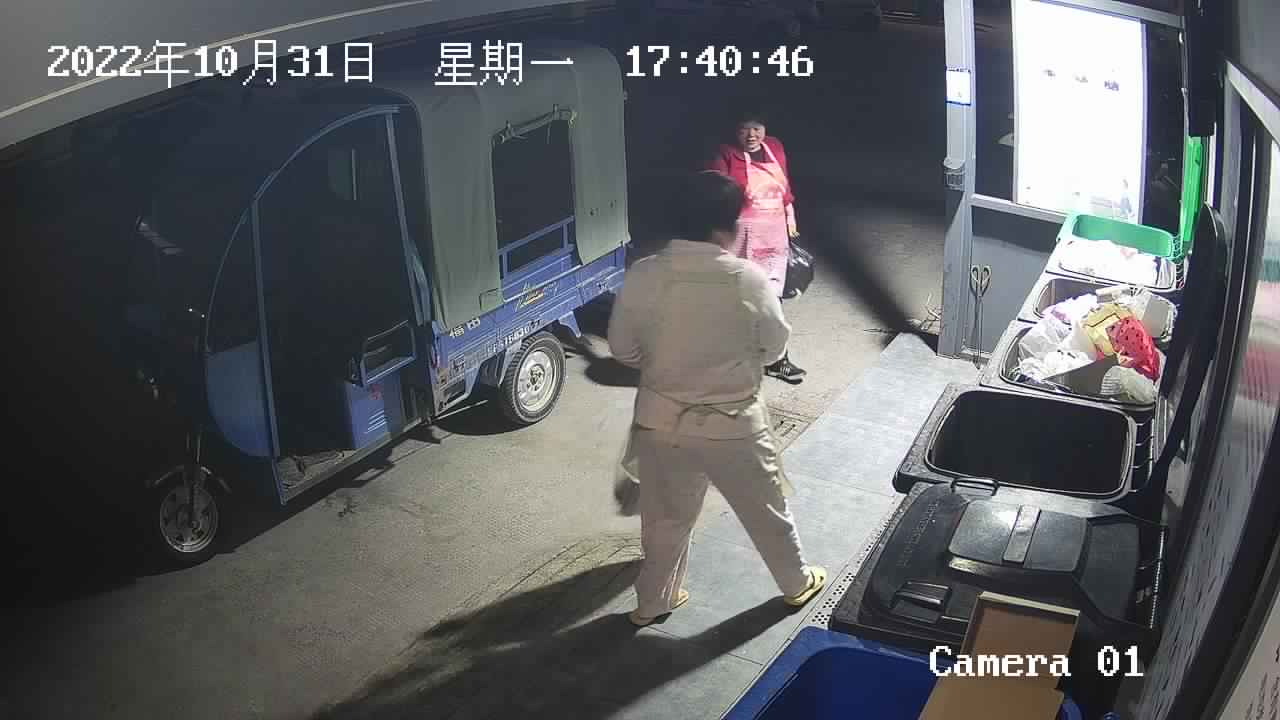garbage-bag: (782, 230, 814, 301)
person: (603, 167, 832, 630), (705, 108, 810, 384)
